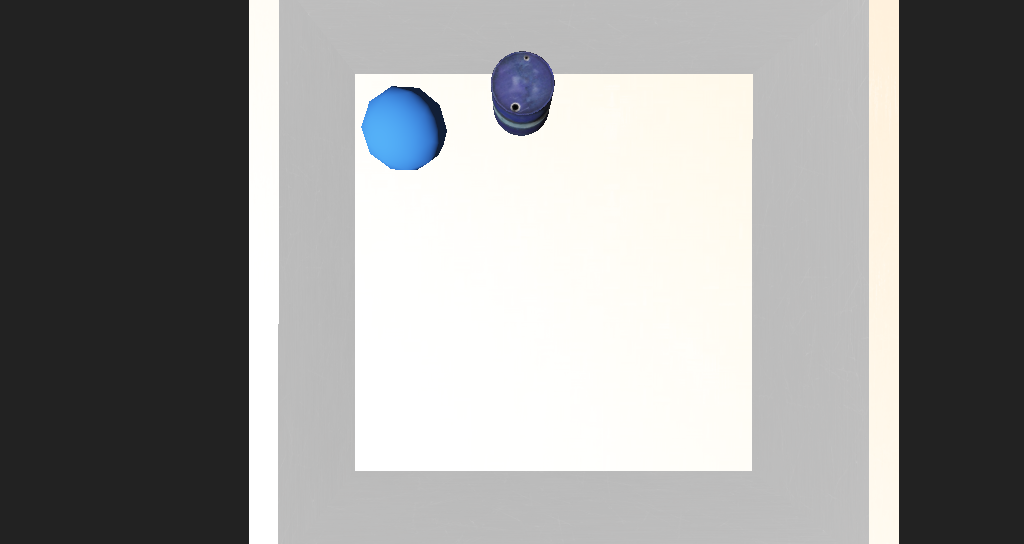cone: (455, 155, 502, 198)
cylinder: (414, 74, 488, 146)
sphere: (357, 174, 424, 217)
